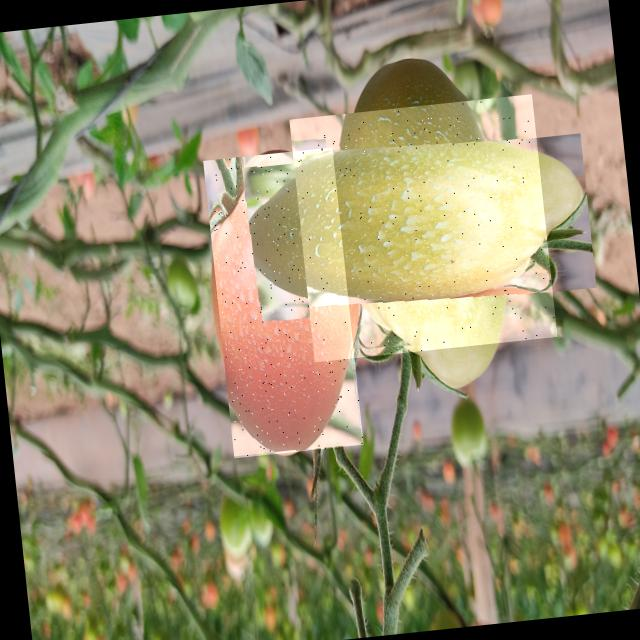Ripe Tomato: (202, 147, 364, 458)
Unripe Tomato: (289, 94, 557, 362)
